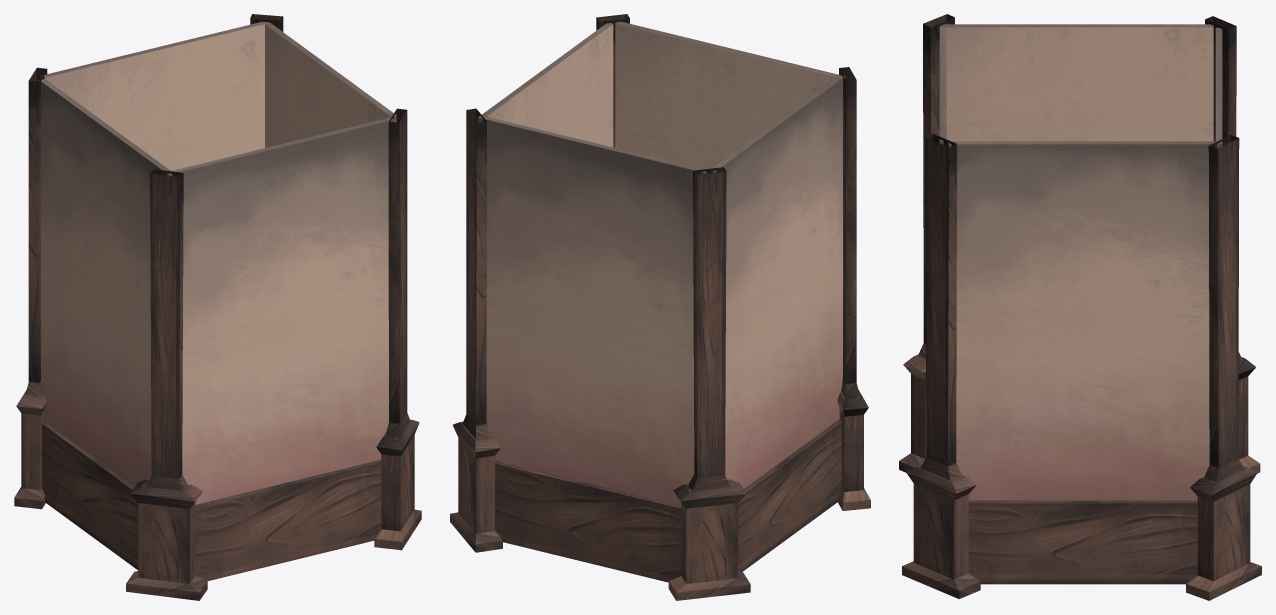
File: Wall_Bot_Pillar_LOD1.fbx
3 views of the same model, side by side, from view 1: azimuth 30°, elevation 25°; view 2: azimuth 150°, elevation 25°; view 3: azimuth 270°, elevation 25° (orthographic). The views are drawn at different scales.
Parts seen in each view (by area): view 1: Pillar_Bot_LOD1; view 2: Pillar_Bot_LOD1; view 3: Pillar_Bot_LOD1.
Boxes of the visible parts, x1,y1,x2,y2 form: Pillar_Bot_LOD1: (14, 14, 421, 600); Pillar_Bot_LOD1: (450, 14, 870, 600); Pillar_Bot_LOD1: (899, 14, 1261, 600).
Bounding box in the file's own units: 0.0319 × 0.0424 × 0.0316.
